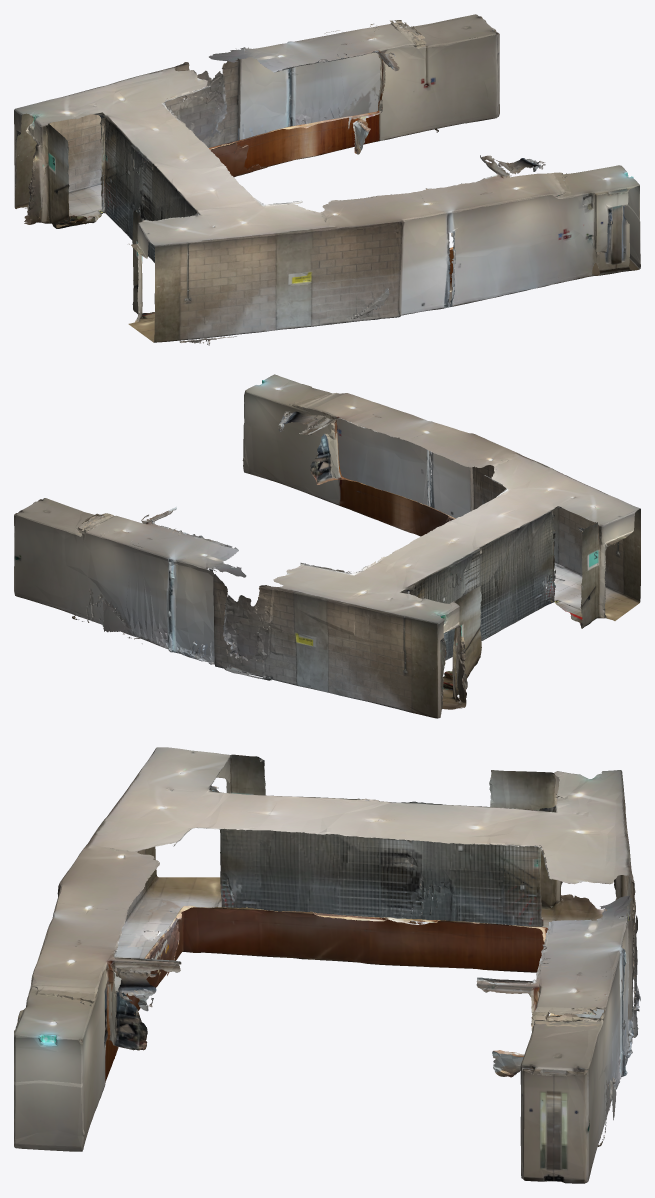
The model's file is Atrium_2_LOW_POLY.fbx.
3 renders of one model, top to bottom at view 1: azimuth 30°, elevation 25°; view 2: azimuth 150°, elevation 25°; view 3: azimuth 270°, elevation 25°, orthographic. The views are drawn at different scales.
Visible parts, largest first — view 1: Atrium_2_LOW_POLY; view 2: Atrium_2_LOW_POLY; view 3: Atrium_2_LOW_POLY.
Part boxes in pixels (<box>): Atrium_2_LOW_POLY: <box>14,14,640,345</box>; Atrium_2_LOW_POLY: <box>14,374,640,718</box>; Atrium_2_LOW_POLY: <box>14,747,640,1183</box>.
Bounding box in the file's own units: 1564 × 333 × 1310.
Materials: 1 (1 with a texture image).
